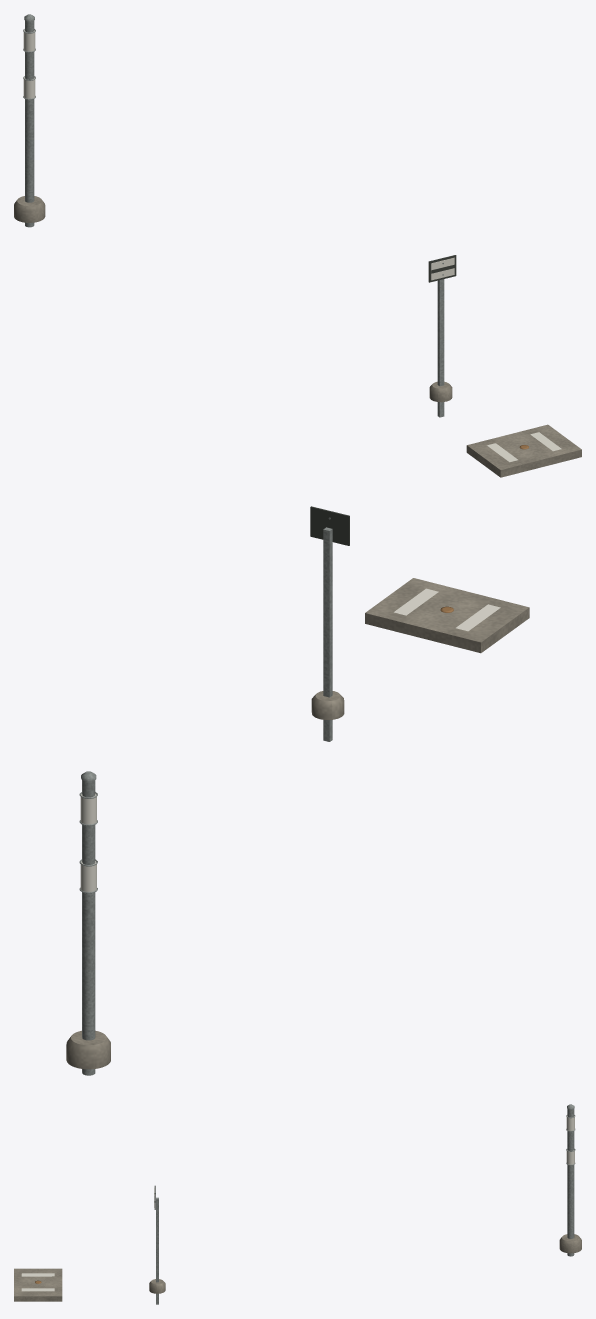
The model's file is SM_SubstationField_Reference.glb.
3 views of the same model, one above another, from view 1: azimuth 30°, elevation 25°; view 2: azimuth 150°, elevation 25°; view 3: azimuth 270°, elevation 25° (orthographic). The views are drawn at different scales.
Visible parts, largest first — view 1: SM_SubstationField_Reference; view 2: SM_SubstationField_Reference; view 3: SM_SubstationField_Reference.
Part boxes in pixels (x1=…): SM_SubstationField_Reference: x1=14, y1=14, x2=581, y2=477; SM_SubstationField_Reference: x1=66, y1=506, x2=529, y2=1075; SM_SubstationField_Reference: x1=14, y1=1104, x2=581, y2=1304.
Bounding box in the file's own units: 1.95 × 2.32 × 7.62.
5 materials, 2 textured.
